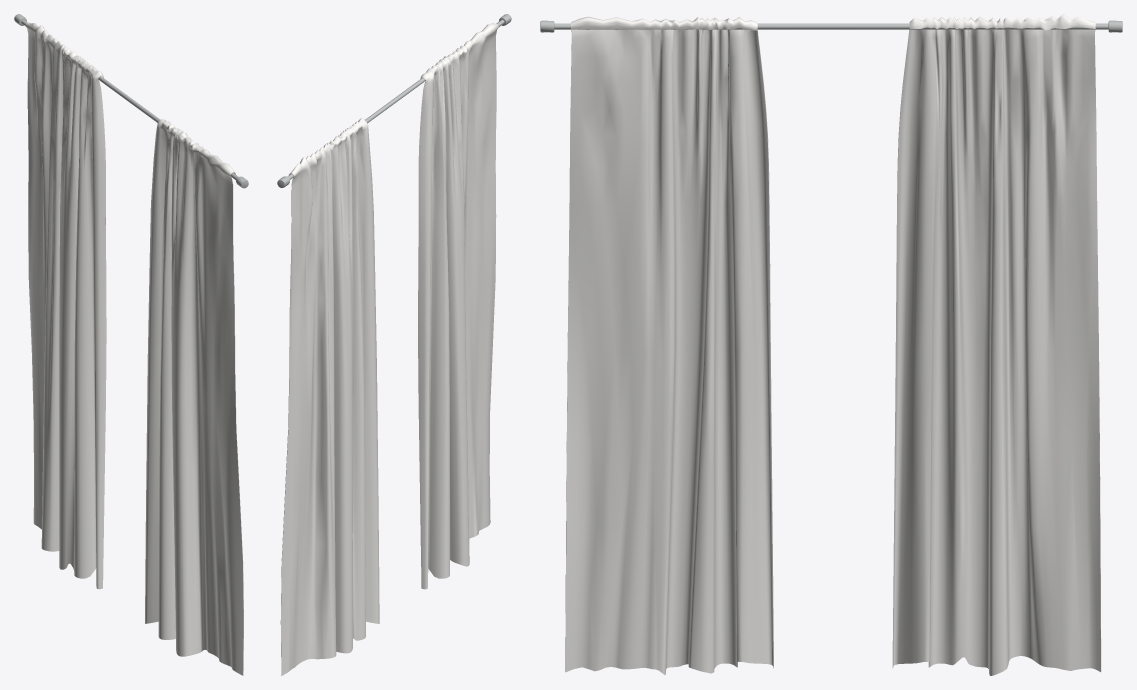
Rendered from curtain.glb.
The picture shows the model from 3 angles, left to right: view 1: azimuth 30°, elevation 25°; view 2: azimuth 150°, elevation 25°; view 3: azimuth 270°, elevation 25°; orthographic projection. The views are drawn at different scales.
Parts seen in each view (by area): view 1: fabric_03_08; view 2: fabric_03_08; view 3: fabric_03_08.
Part boxes in pixels (x1,y1,x2,y2): fabric_03_08: [14, 14, 248, 675]; fabric_03_08: [277, 14, 511, 675]; fabric_03_08: [540, 14, 1122, 675].
Bounding box in the file's own units: 0.0889 × 1.87 × 1.49.
Materials: 1 (1 with a texture image).
